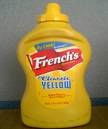grozi_40: (15, 3, 91, 128)
